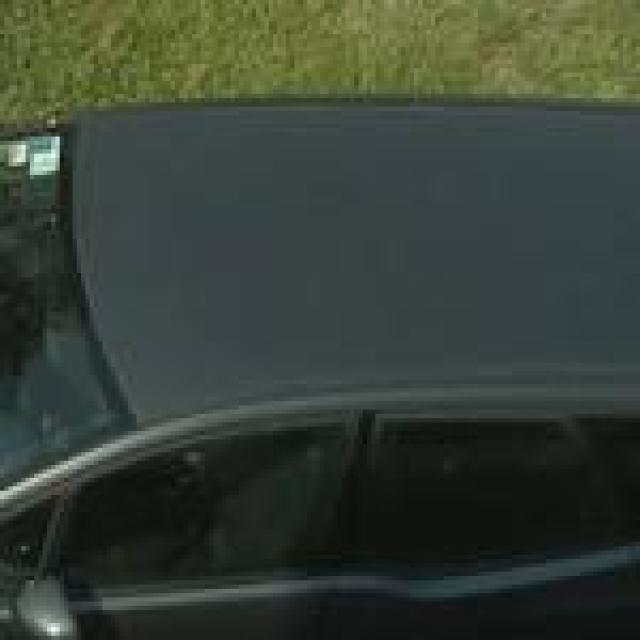cars-sUYr: (0, 75, 640, 640)
